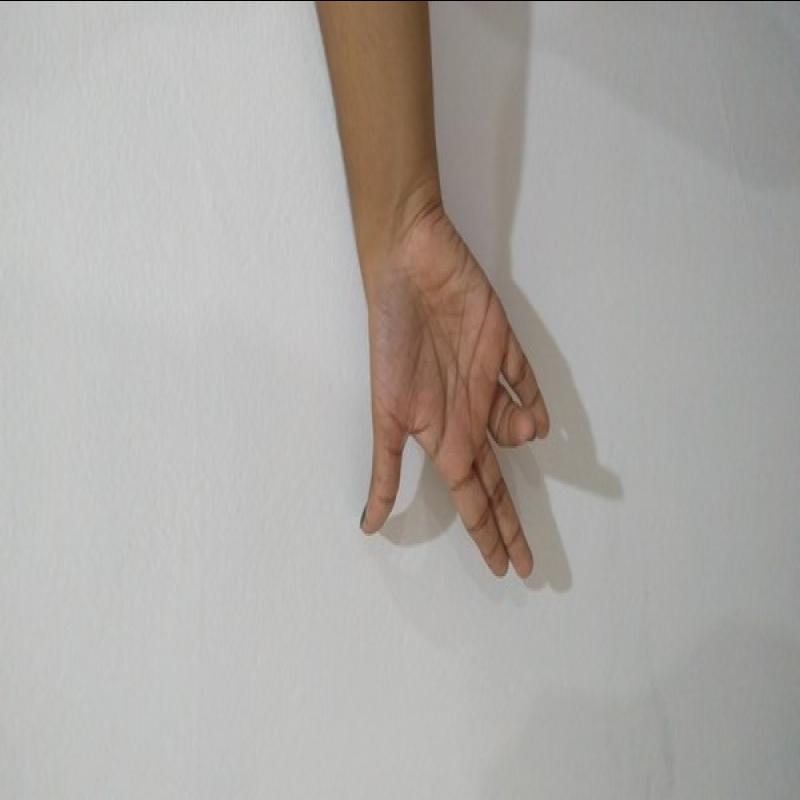Pathaaka: (322, 219, 586, 594)
